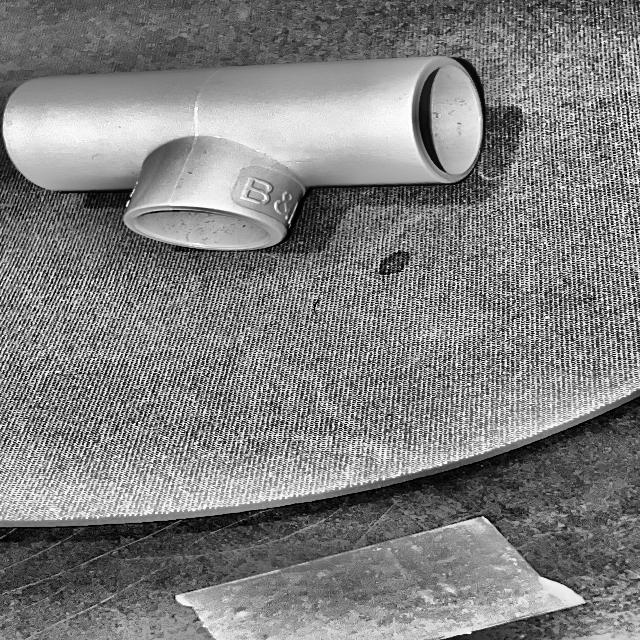EQUALTEE: (0, 57, 487, 253)
